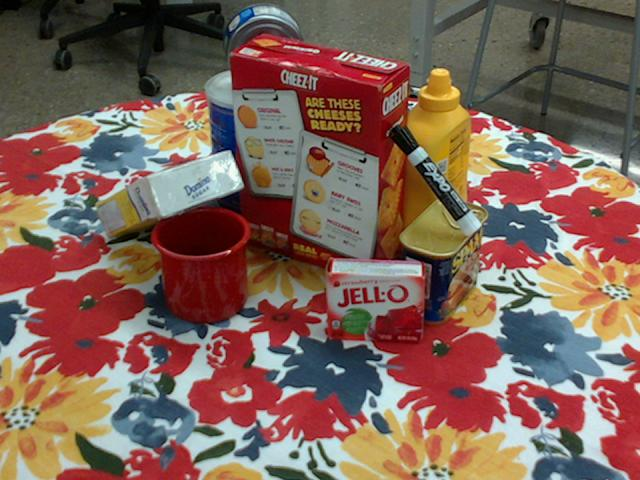cracker_box: (228, 34, 409, 283)
gelatin_box: (326, 257, 426, 343)
large_marker: (389, 124, 483, 235)
master_chef_can: (205, 67, 301, 220)
mug: (151, 205, 251, 323)
mustard_bottle: (399, 68, 471, 260)
potted_meat_can: (400, 198, 489, 325)
sugar_box: (93, 151, 243, 238)
tomato_soup_can: (356, 109, 419, 215)
tuna_fish_can: (221, 4, 304, 90)
